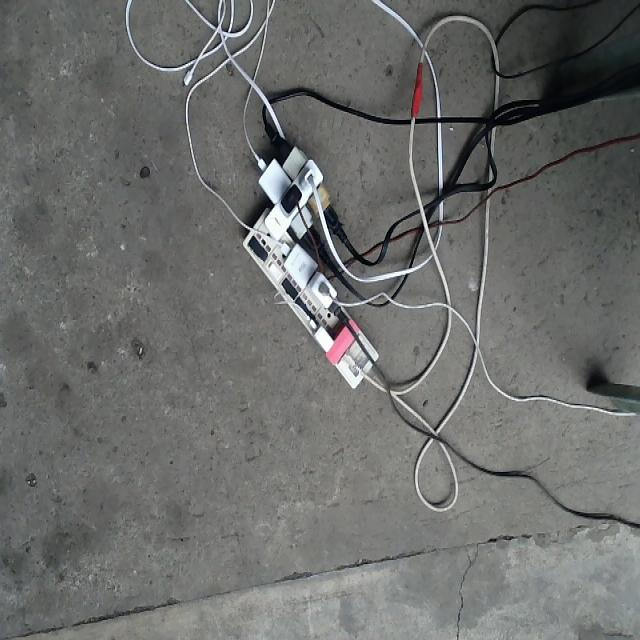-: (240, 136, 381, 392)
